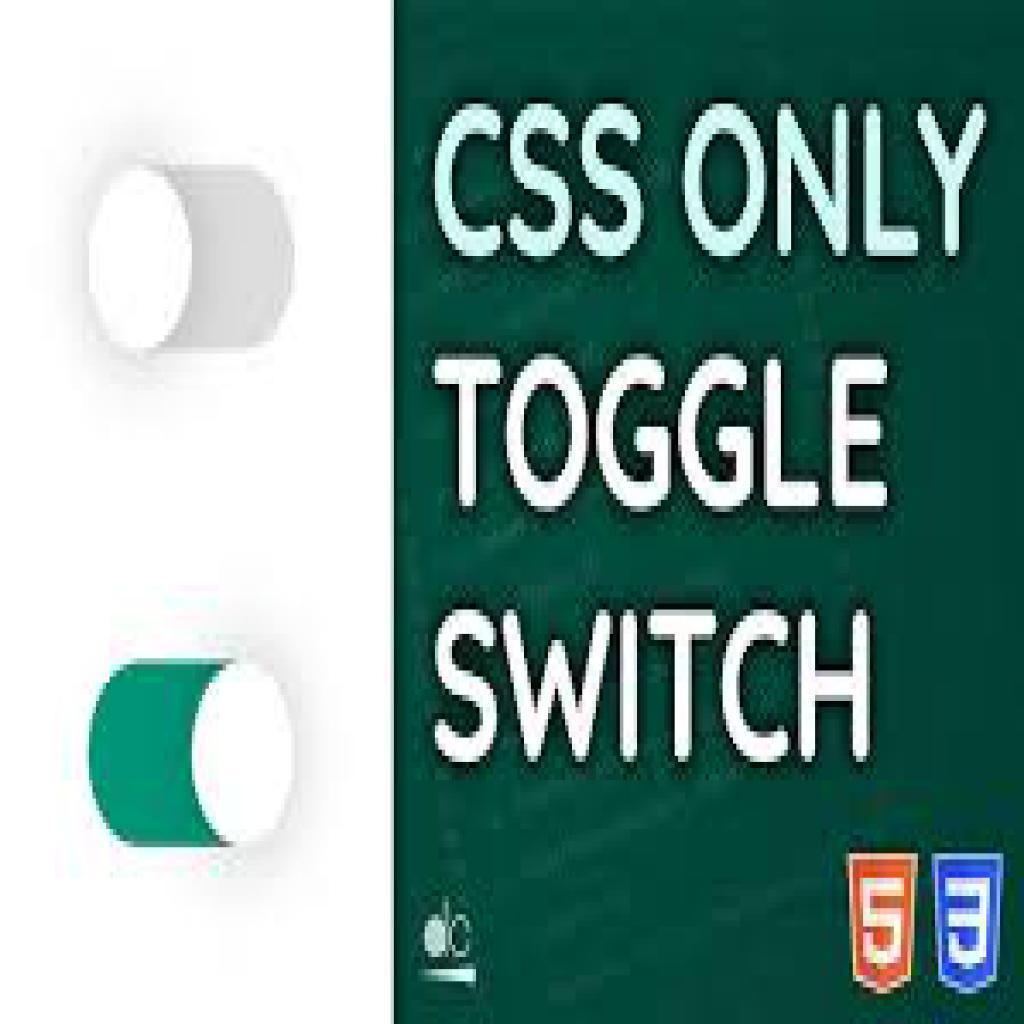switch: (86, 160, 297, 366), (90, 660, 299, 854)
